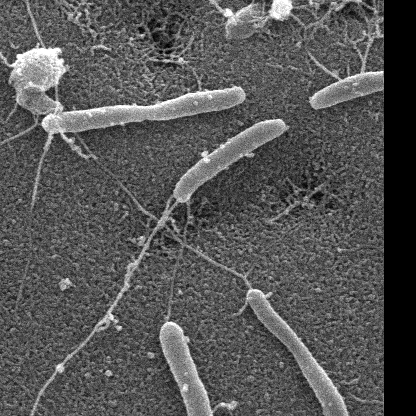cell2cell: (11, 204, 179, 416), (74, 137, 255, 291)
filament: (42, 87, 250, 135)
regular: (242, 283, 350, 416), (178, 119, 289, 198), (157, 322, 222, 416), (307, 70, 384, 109)
spheroplast: (11, 48, 66, 95)
